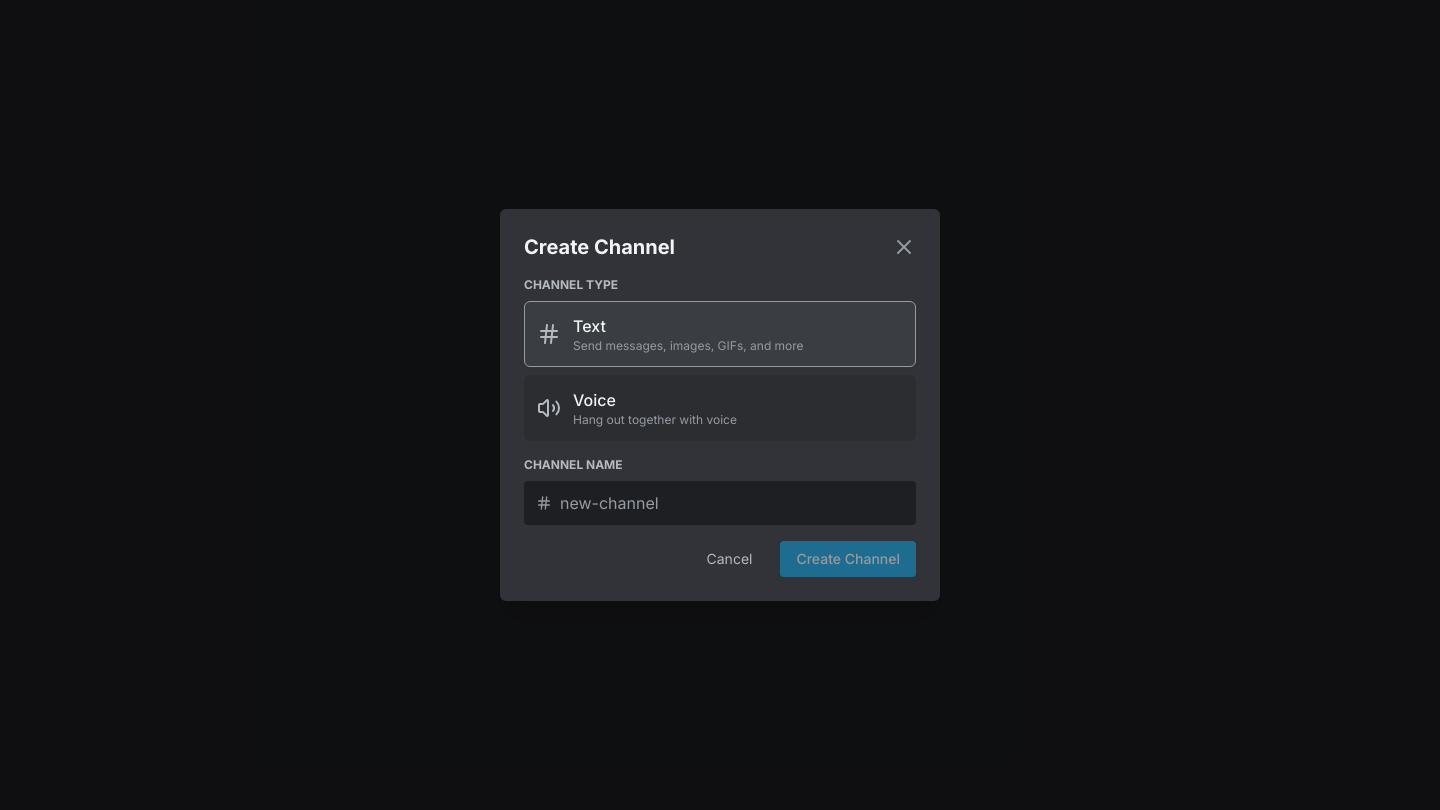
Scenario: CreateChannelModal › enables Create Channel button when name is entered
In the field with placeholder "new-channel": point(732, 503) [560,481,904,525], type "general"
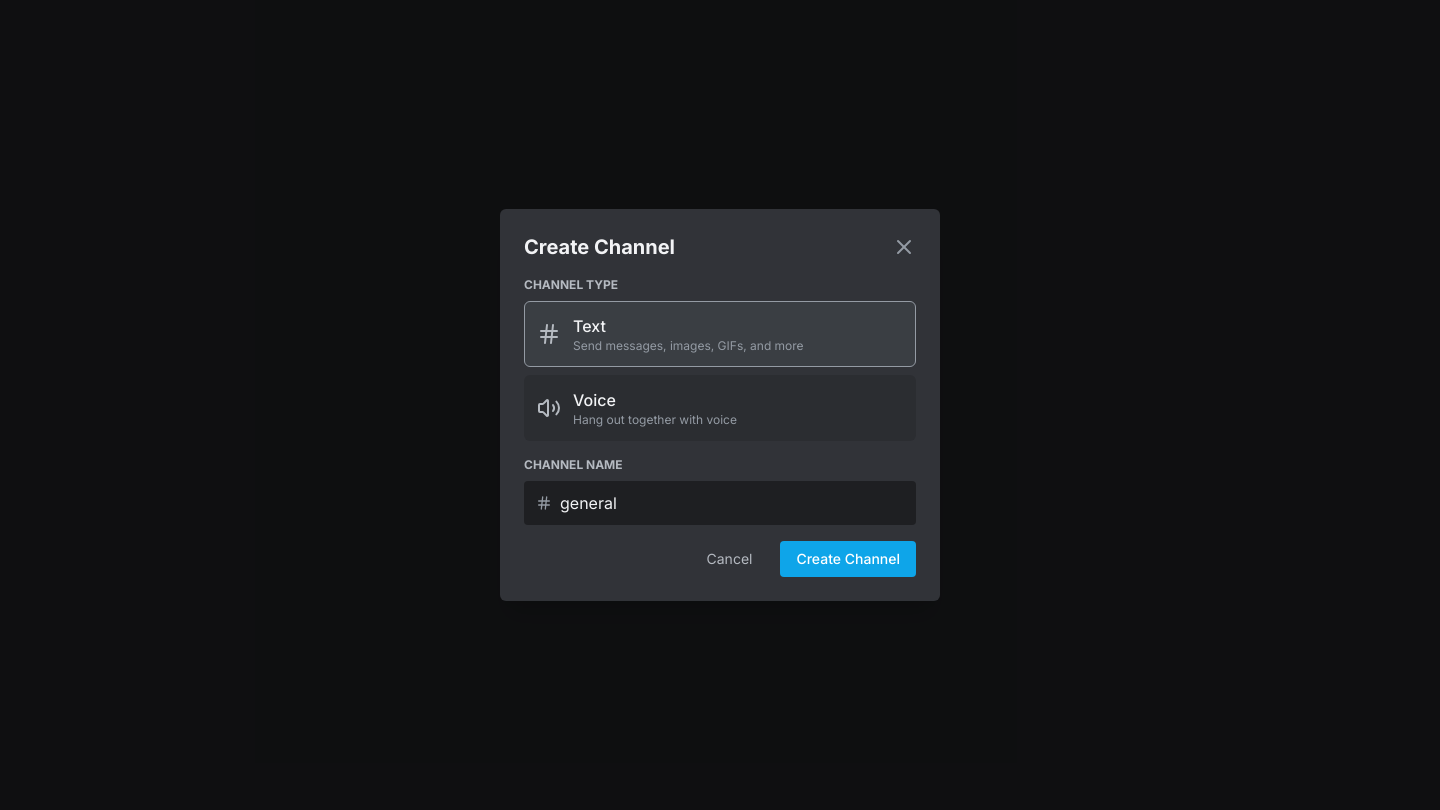
Expected: the button "Create Channel" is enabled, [780,541,916,577]
